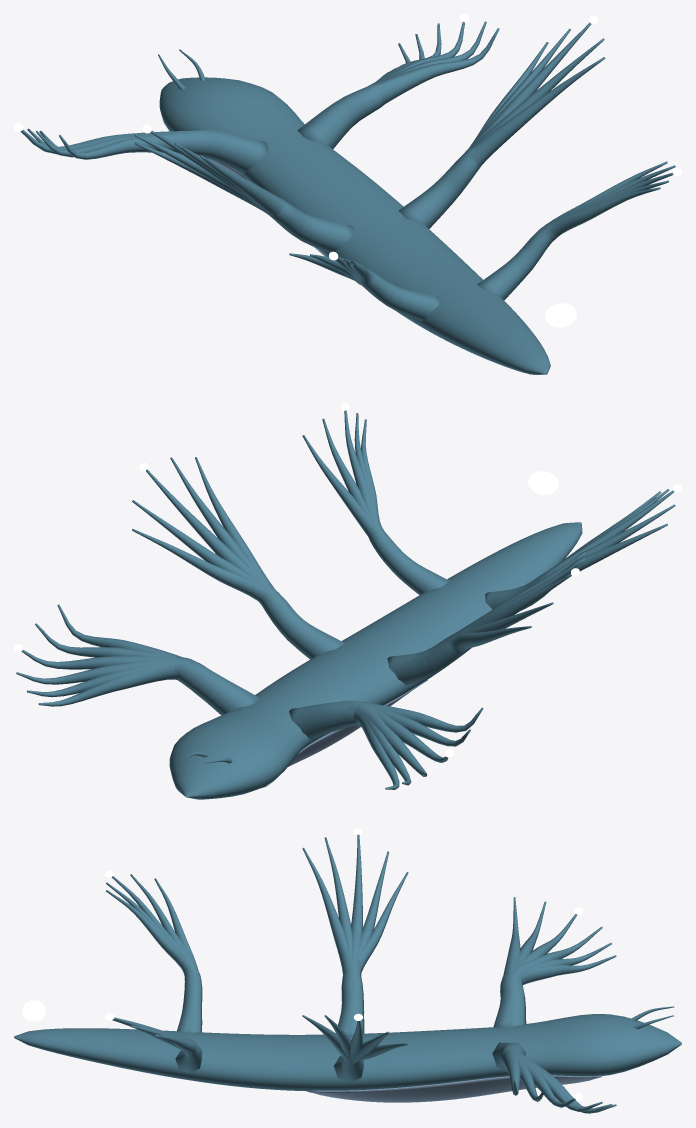
The picture shows the model from 3 angles, top to bottom: view 1: azimuth 30°, elevation 25°; view 2: azimuth 150°, elevation 25°; view 3: azimuth 270°, elevation 25°; orthographic projection. The views are drawn at different scales.
Parts seen in each view (by area): view 1: RIMWARD_HULL, RIMWARD_ENGINE_GLOW; view 2: RIMWARD_HULL, RIMWARD_ENGINE_GLOW; view 3: RIMWARD_HULL.
Boxes of the visible parts, <box> form: RIMWARD_HULL: <box>20,21,675,374</box>; RIMWARD_ENGINE_GLOW: <box>545,303,576,327</box>; RIMWARD_HULL: <box>16,410,675,799</box>; RIMWARD_ENGINE_GLOW: <box>528,471,558,494</box>; RIMWARD_HULL: <box>14,834,681,1113</box>.
Size of the model in its own units: 7.36 by 3.26 by 11.
